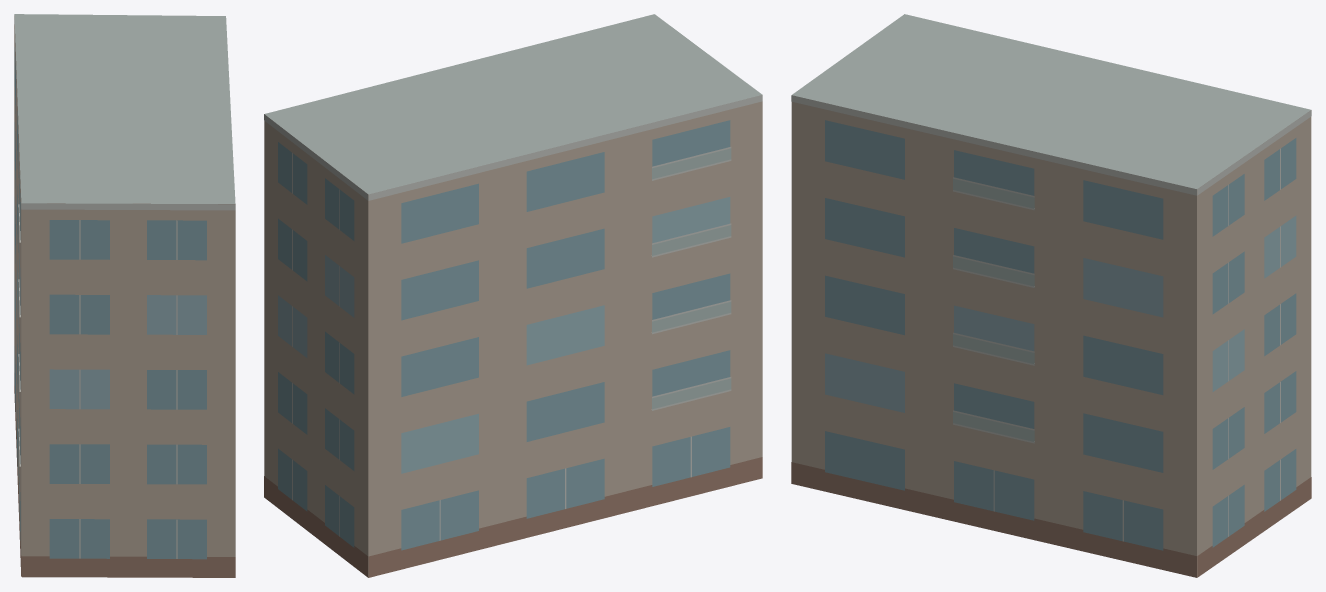
The model's file is survey-upis-32969364.glb.
3 views of the same model, side by side, from view 1: azimuth 30°, elevation 25°; view 2: azimuth 150°, elevation 25°; view 3: azimuth 270°, elevation 25° (orthographic). The views are drawn at different scales.
Parts seen in each view (by area): view 1: survey-upis-32969364.tmp; view 2: survey-upis-32969364.tmp; view 3: survey-upis-32969364.tmp.
Boxes of the visible parts, x1,y1,x2,y2 form: survey-upis-32969364.tmp: (14, 14, 235, 577); survey-upis-32969364.tmp: (264, 14, 762, 577); survey-upis-32969364.tmp: (791, 14, 1311, 577).
Size of the model in its own units: 14.03 by 14.5 by 17.59.
